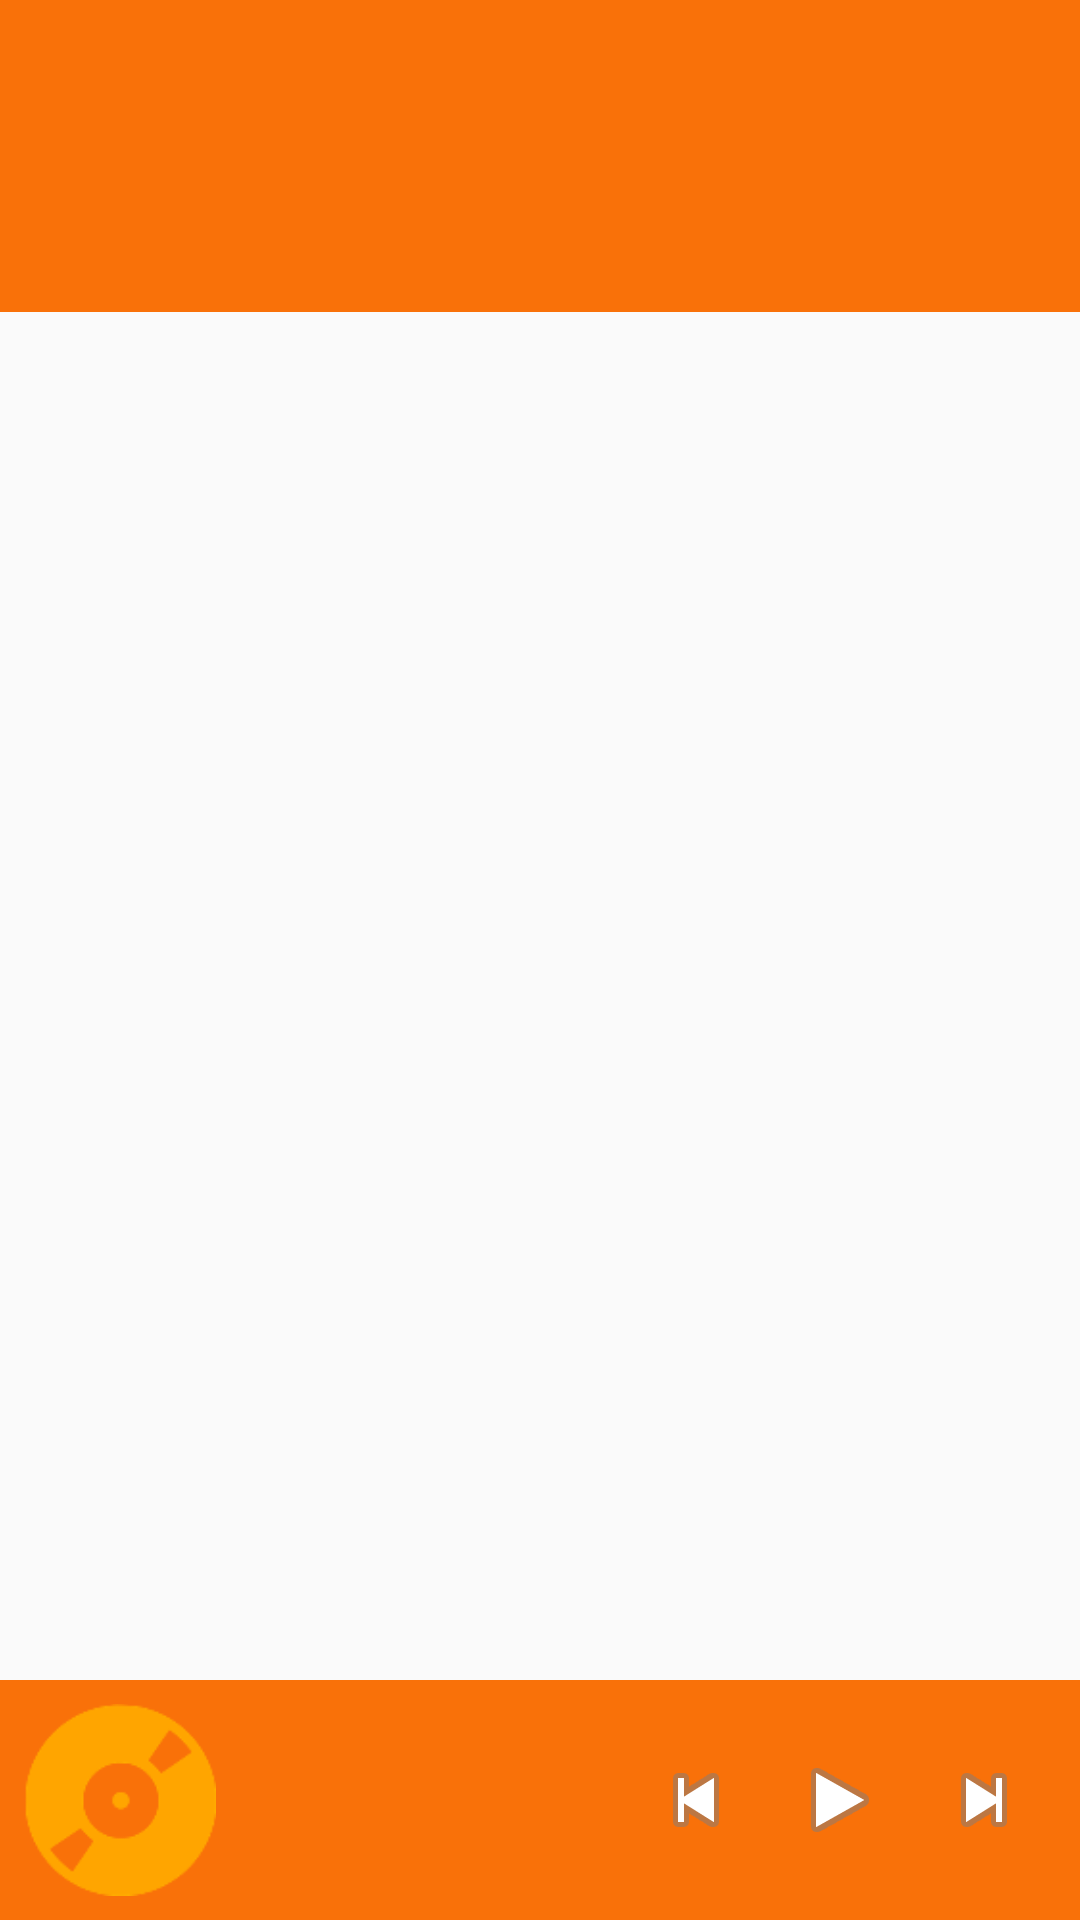

Where icons sit on this 1080px×1920px app screen, as (x1, y1, x2, y2):
next: (961, 1773, 1007, 1827)
play: (811, 1768, 869, 1832)
previous: (673, 1773, 719, 1827)
